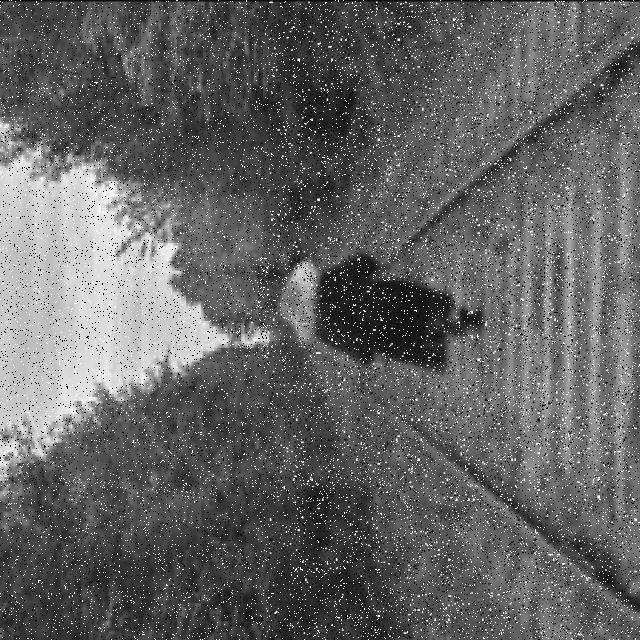danger: (258, 255, 480, 358)
rail: (269, 0, 636, 635)
